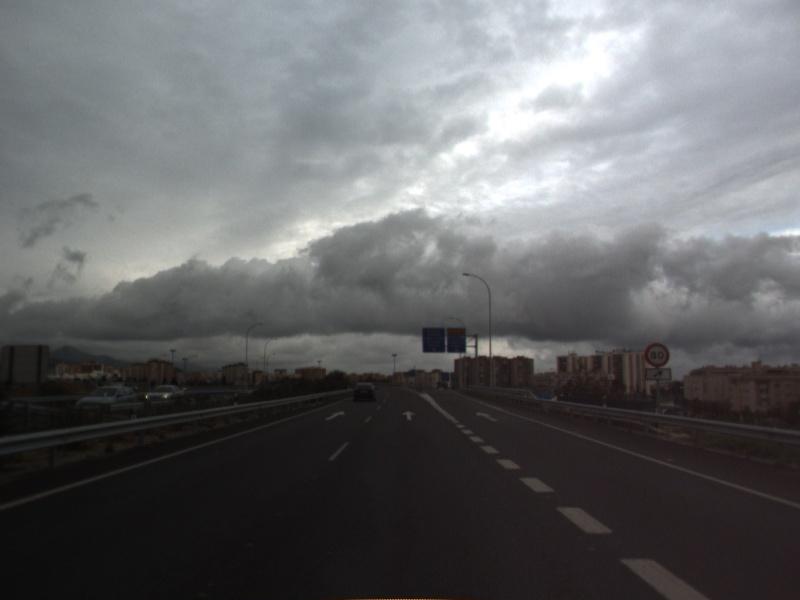STRAIGHT: (474, 409, 501, 424), (322, 408, 347, 422), (401, 409, 418, 422)
